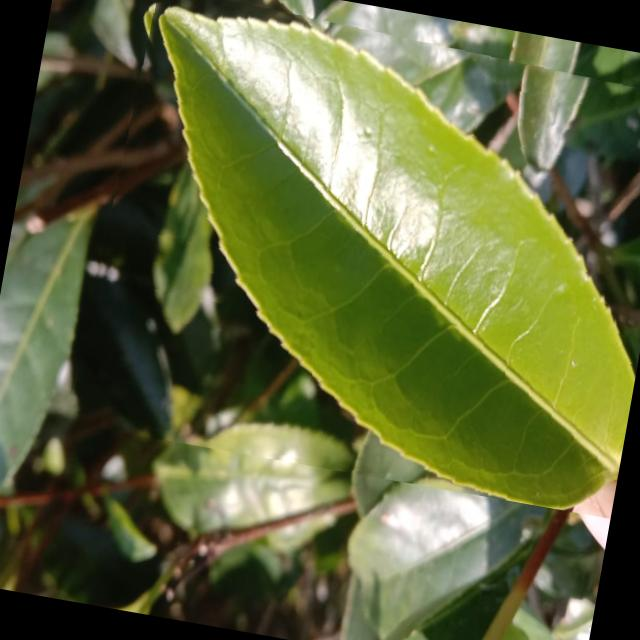Category B(2-4 days): (65, 0, 640, 517)
